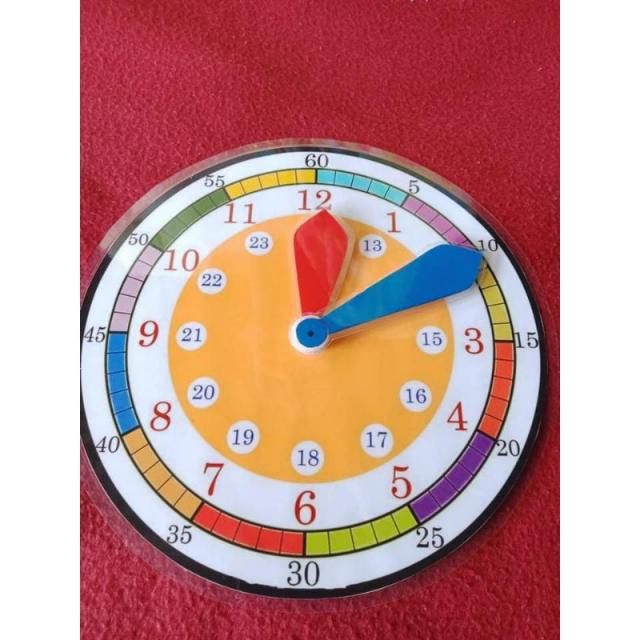clock: (56, 140, 558, 602)
